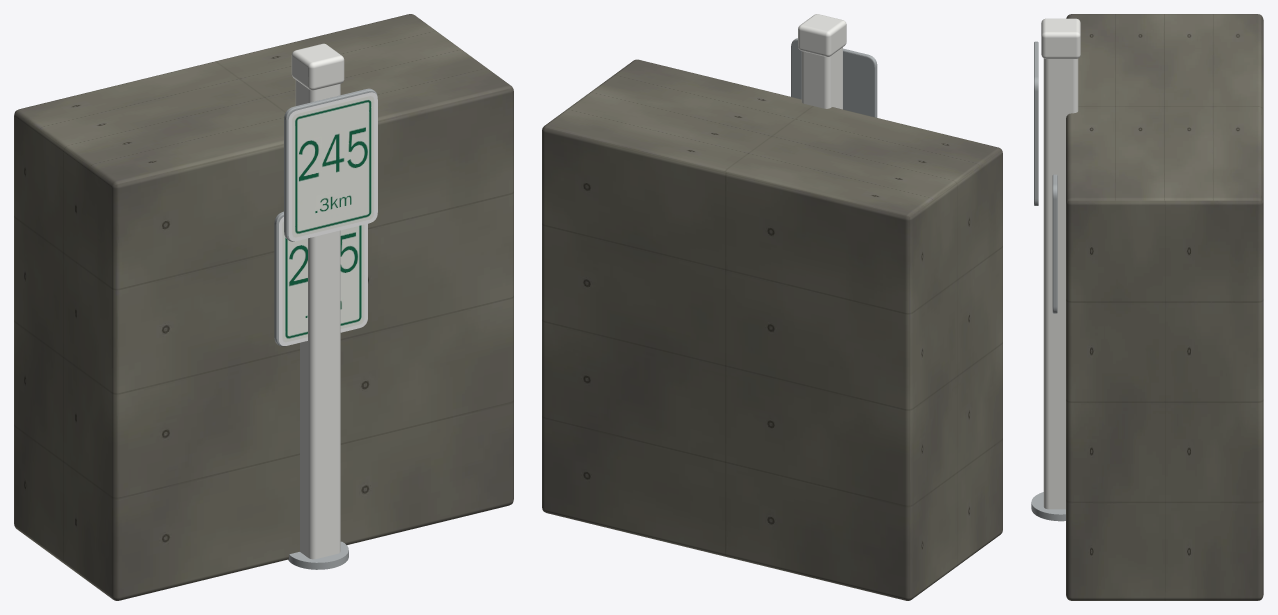
The picture shows the model from 3 angles, left to right: view 1: azimuth 30°, elevation 25°; view 2: azimuth 150°, elevation 25°; view 3: azimuth 270°, elevation 25°; orthographic projection. The views are drawn at different scales.
Visible parts, largest first — view 1: opt_mount_wall, opt_kind_k100 (×2), opt_mount_post; view 2: opt_mount_wall, opt_mount_post, opt_kind_k100; view 3: opt_mount_wall, opt_mount_post, opt_kind_k100 (×2).
Part boxes in pixels (x1,y1,x2,y2): opt_mount_wall: (14, 14, 513, 600); opt_kind_k100 (×2): (274, 88, 377, 346); opt_mount_post: (288, 43, 348, 569); opt_mount_wall: (542, 59, 1002, 600); opt_mount_post: (798, 14, 846, 109); opt_kind_k100: (791, 38, 877, 117); opt_mount_wall: (1066, 14, 1263, 600); opt_mount_post: (1031, 18, 1080, 521); opt_kind_k100 (×2): (1034, 41, 1057, 313).
Size of the model in its own units: 0.9 by 1.08 by 0.47.
Materials: 6 (3 with a texture image).
